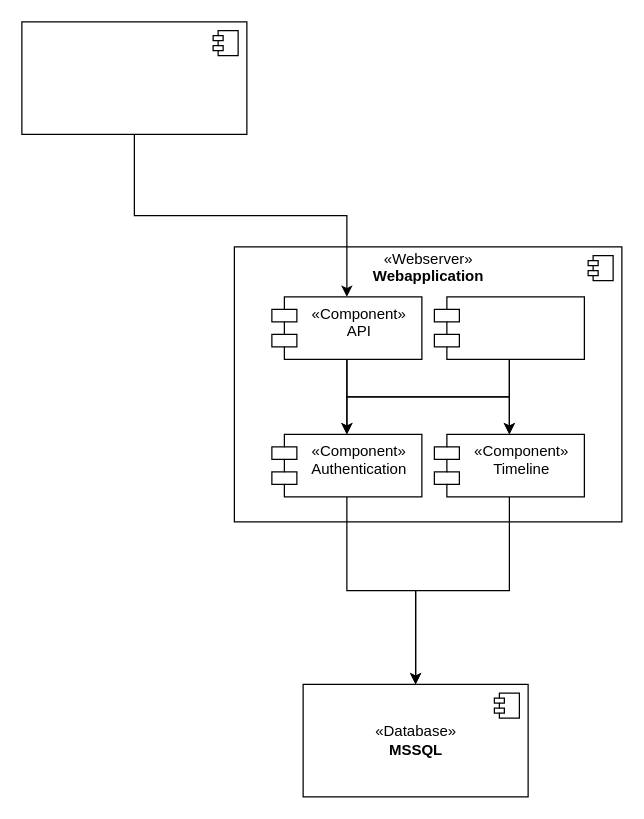
This 644x819 diagram has some shape labels left out. The box of each missing label's shape, as (x1, y1, x2, y2) in pixels:
«Component» Views: (433, 296, 584, 359)
«Tester» Integration Test Service: (21, 21, 247, 134)
